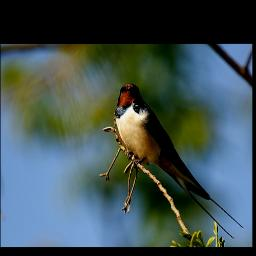Swallow: (116, 82, 244, 240)
